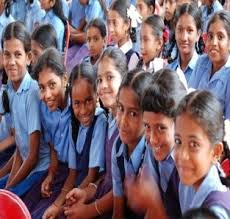student: (171, 100, 225, 186), (138, 80, 180, 162), (116, 75, 148, 143), (29, 49, 65, 109), (95, 51, 130, 107), (69, 69, 101, 125), (4, 22, 33, 79), (173, 5, 201, 58), (138, 16, 168, 63), (205, 12, 230, 64), (28, 21, 59, 62), (106, 4, 134, 44), (79, 24, 103, 60)
